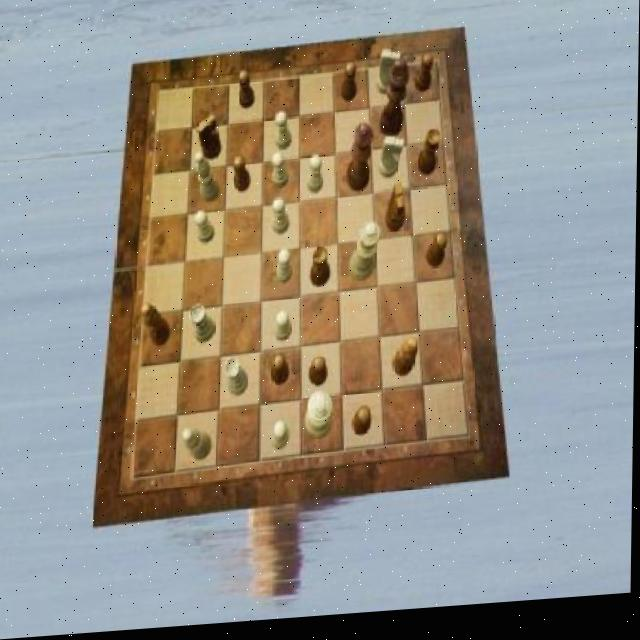bishop: (142, 302, 172, 349), (394, 343, 419, 383)
black-bishop: (380, 64, 409, 144)
black-king: (198, 118, 223, 165), (386, 187, 407, 237)
black-knight: (426, 238, 449, 274), (416, 61, 434, 100), (233, 158, 251, 196), (239, 73, 256, 112), (272, 357, 292, 390), (342, 67, 358, 108), (310, 361, 328, 393), (353, 412, 372, 440)
black-pawn: (346, 128, 374, 198)
black-queen: (418, 134, 441, 182), (312, 250, 332, 292)
black-rook: (194, 153, 221, 207), (183, 429, 214, 464)
white-bishop: (305, 396, 333, 445)
white-king: (377, 55, 402, 102), (381, 141, 406, 185)
white-knight: (195, 212, 216, 247), (272, 201, 290, 238), (273, 155, 290, 194), (275, 115, 292, 154), (308, 160, 325, 198), (276, 252, 294, 287), (272, 426, 291, 455), (275, 313, 292, 345)
white-pawn: (350, 227, 382, 288)
white-queen: (190, 307, 216, 347), (226, 359, 250, 401)
